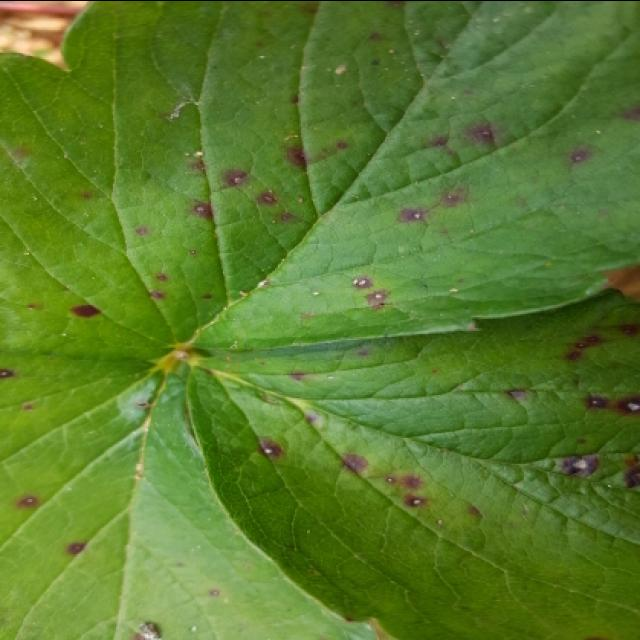Leaf Spot: (0, 2, 638, 358), (188, 284, 638, 640), (0, 349, 385, 640)
